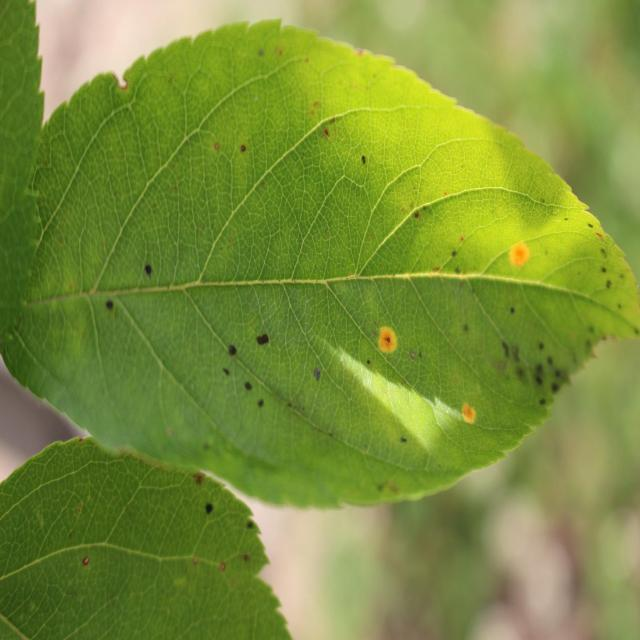Rust: (376, 321, 399, 361), (457, 393, 479, 431), (509, 238, 532, 271), (75, 548, 93, 578), (273, 40, 291, 70), (188, 544, 205, 573), (386, 475, 400, 505), (194, 466, 208, 491), (218, 555, 230, 580), (211, 136, 221, 162)
